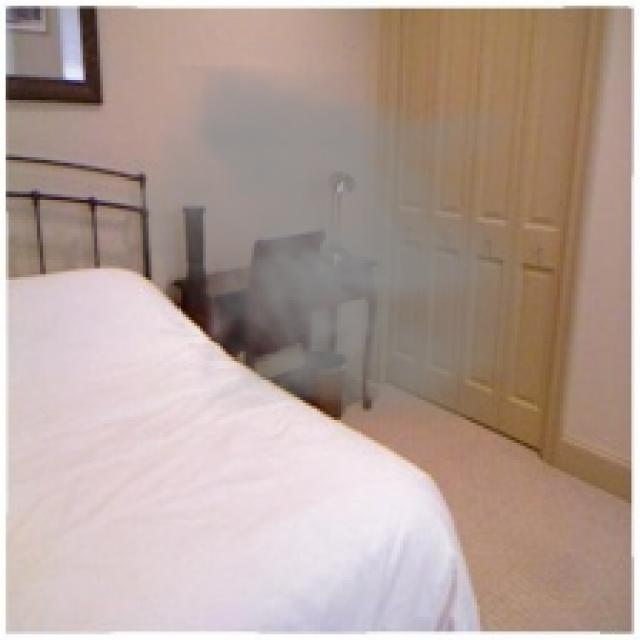smoke: (111, 66, 523, 423)
